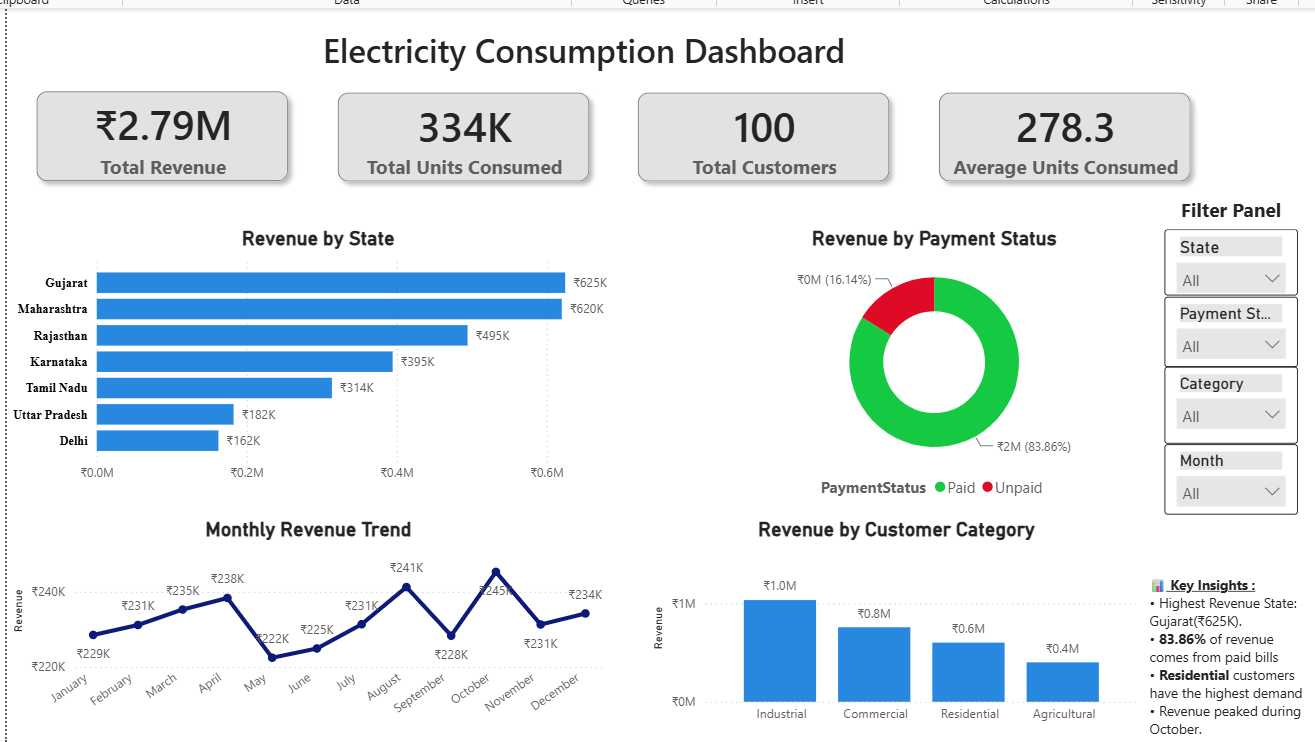

What the dashboard file says about the page in this screenshot:
{"tool":"powerbi","page":{"name":"Page 1","canvas":[1280,720],"ordinal":0},"visuals":[{"type":"cardVisual","fields":{"Data":["Measures (2).Total Revenue"]},"box":[0,52.1,304.6,146.8],"z":0},{"type":"cardVisual","fields":{"Data":["Measures (2).Total Customers"]},"box":[588.2,53.5,304.6,145.5],"z":1000},{"type":"cardVisual","fields":{"Data":["Measures (2).Total Units Consumed"]},"box":[294.1,53.5,304.6,145.5],"z":2000},{"type":"cardVisual","fields":{"Data":["Measures (2).Average Units Consumed"]},"box":[882.3,53.5,304.6,145.5],"z":3000},{"type":"clusteredBarChart","title":"Revenue by State","fields":{"Category":["vw_DashboardData.StateName"],"Y":["Sum(vw_DashboardData.BillAmount)"]},"box":[0,214.1,609.3,259.3],"z":4000},{"type":"donutChart","title":"Revenue by Payment Status","fields":{"Category":["vw_DashboardData.PaymentStatus"],"Y":["Sum(vw_DashboardData.BillAmount)"]},"box":[627.1,214.1,559.9,274.4],"z":5000},{"type":"lineChart","title":"Monthly Revenue Trend","fields":{"Category":["vw_DashboardData.ReadingDate.Variation.Date Hierarchy.Month"],"Y":["Sum(vw_DashboardData.BillAmount)"]},"box":[1.4,499.5,587.3,209.9],"z":6000},{"type":"slicer","title":"State Name","fields":{"Values":["vw_DashboardData.StateName"]},"box":[1132.1,216.8,130.4,64.5],"z":7000},{"type":"slicer","fields":{"Values":["vw_DashboardData.PaymentStatus"]},"box":[1132.1,282.7,130.4,68.6],"z":8000},{"type":"slicer","fields":{"Values":["vw_DashboardData.CategoryName"]},"box":[1132.1,351.3,130.4,75.5],"z":9000},{"type":"slicer","fields":{"Values":["vw_DashboardData.ReadingDate.Variation.Date Hierarchy.Month"]},"box":[1132.1,426.8,130.4,68.6],"z":10000},{"type":"textbox","box":[1132.1,179.8,130.4,37],"z":11000},{"type":"textbox","box":[1112.9,550.3,167.4,170.2],"z":12000},{"type":"clusteredColumnChart","title":"Revenue by Customer Category","fields":{"Category":["vw_DashboardData.CategoryName"],"Y":["Sum(vw_DashboardData.BillAmount)"]},"box":[627,499,486,210],"z":13000},{"type":"cardVisual","fields":{"Data":["Measures (2).DashboardData"]},"box":[279.9,0,780.8,79.6],"z":14000}]}

Visuals, with their boxes on the page's 1280x720 design canvas (x1, y1, x2, y2). These are canvas units, not pixel positions in the 1315x742 screenshot, which may show the page scaled, cropped or inside an application window:
cardVisual - Measures (2).Total Revenue: left=0, top=52, right=305, bottom=199
cardVisual - Measures (2).Total Customers: left=588, top=54, right=893, bottom=199
cardVisual - Measures (2).Total Units Consumed: left=294, top=54, right=599, bottom=199
cardVisual - Measures (2).Average Units Consumed: left=882, top=54, right=1187, bottom=199
"Revenue by State" clusteredBarChart: left=0, top=214, right=609, bottom=473
"Revenue by Payment Status" donutChart: left=627, top=214, right=1187, bottom=488
"Monthly Revenue Trend" lineChart: left=1, top=500, right=589, bottom=709
"State Name" slicer: left=1132, top=217, right=1262, bottom=281
slicer - vw_DashboardData.PaymentStatus: left=1132, top=283, right=1262, bottom=351
slicer - vw_DashboardData.CategoryName: left=1132, top=351, right=1262, bottom=427
slicer - vw_DashboardData.ReadingDate.Variation.Date Hierarchy.Month: left=1132, top=427, right=1262, bottom=495
textbox: left=1132, top=180, right=1262, bottom=217
textbox: left=1113, top=550, right=1280, bottom=720
"Revenue by Customer Category" clusteredColumnChart: left=627, top=499, right=1113, bottom=709
cardVisual - Measures (2).DashboardData: left=280, top=0, right=1061, bottom=80
